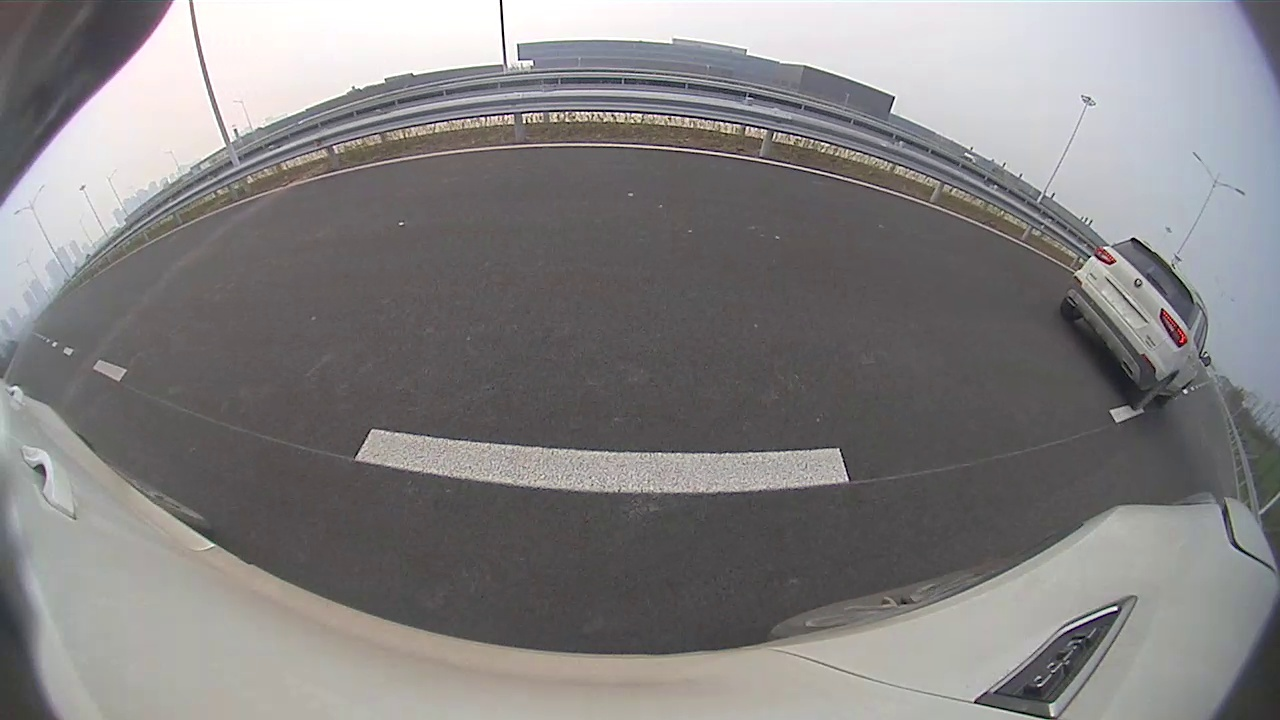car: (1060, 236, 1214, 414)
rear: (1137, 373, 1177, 412)
